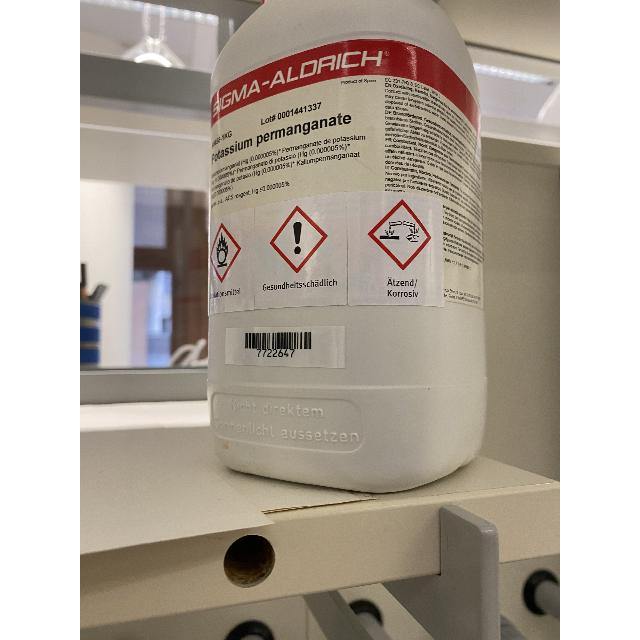corrosive: (379, 222, 418, 242)
health-ozone layer hazard: (294, 222, 302, 254)
oxidising: (216, 232, 228, 268)
